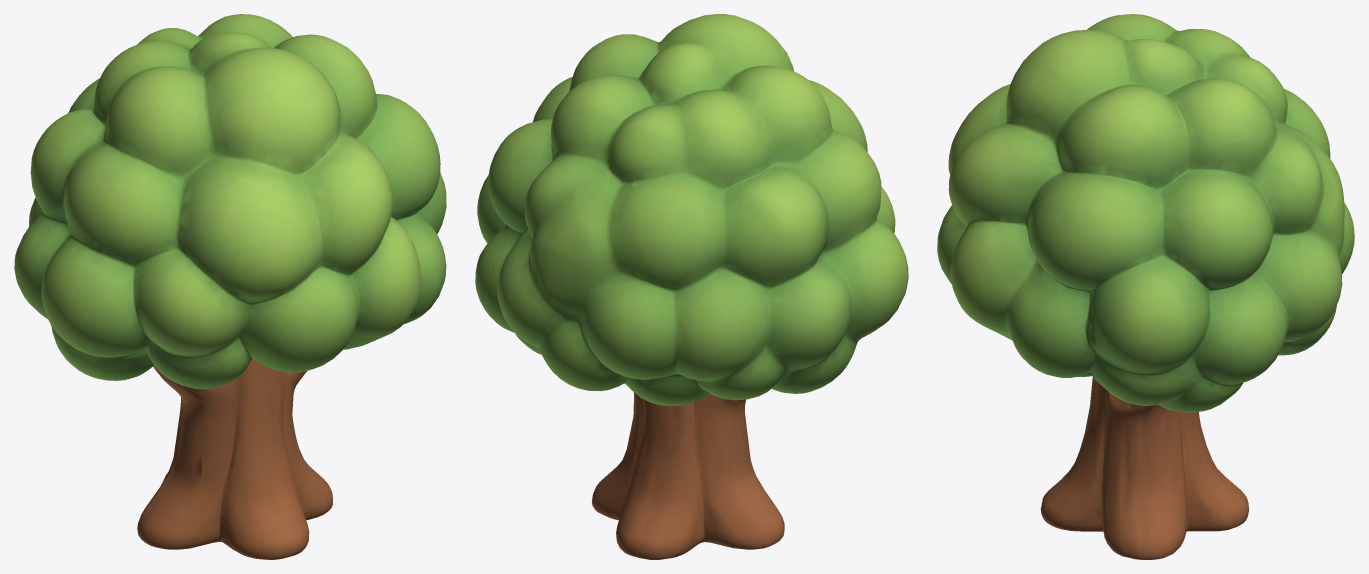
The model's file is 06_tree.glb.
The picture shows the model from 3 angles, left to right: view 1: azimuth 30°, elevation 25°; view 2: azimuth 150°, elevation 25°; view 3: azimuth 270°, elevation 25°; orthographic projection. The views are drawn at different scales.
Parts seen in each view (by area): view 1: node_0; view 2: node_0; view 3: node_0.
Part boxes in pixels (<box>): node_0: <box>14,14,446,559</box>; node_0: <box>475,14,908,559</box>; node_0: <box>937,14,1354,559</box>.
Bounding box in the file's own units: 0.8671 × 0.9998 × 0.7903.
Materials: 1 (1 with a texture image).
